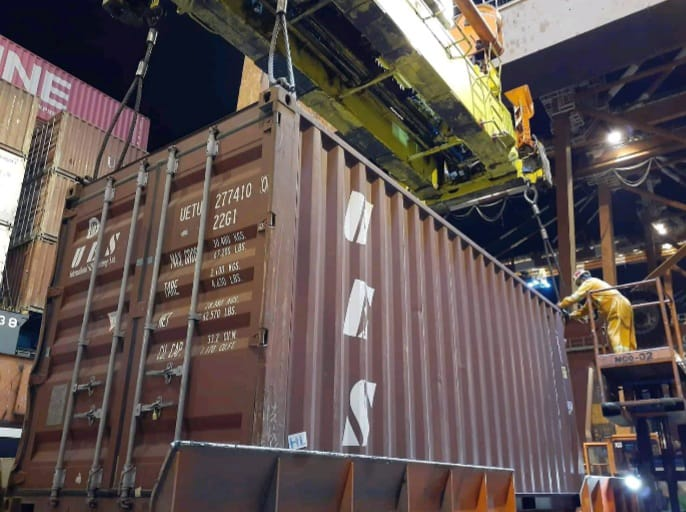moderate: (253, 204, 288, 238), (250, 322, 272, 350)
